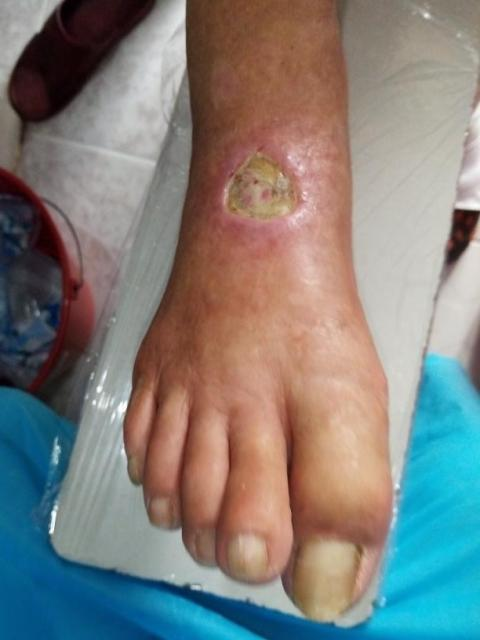wound: (225, 146, 308, 220)
